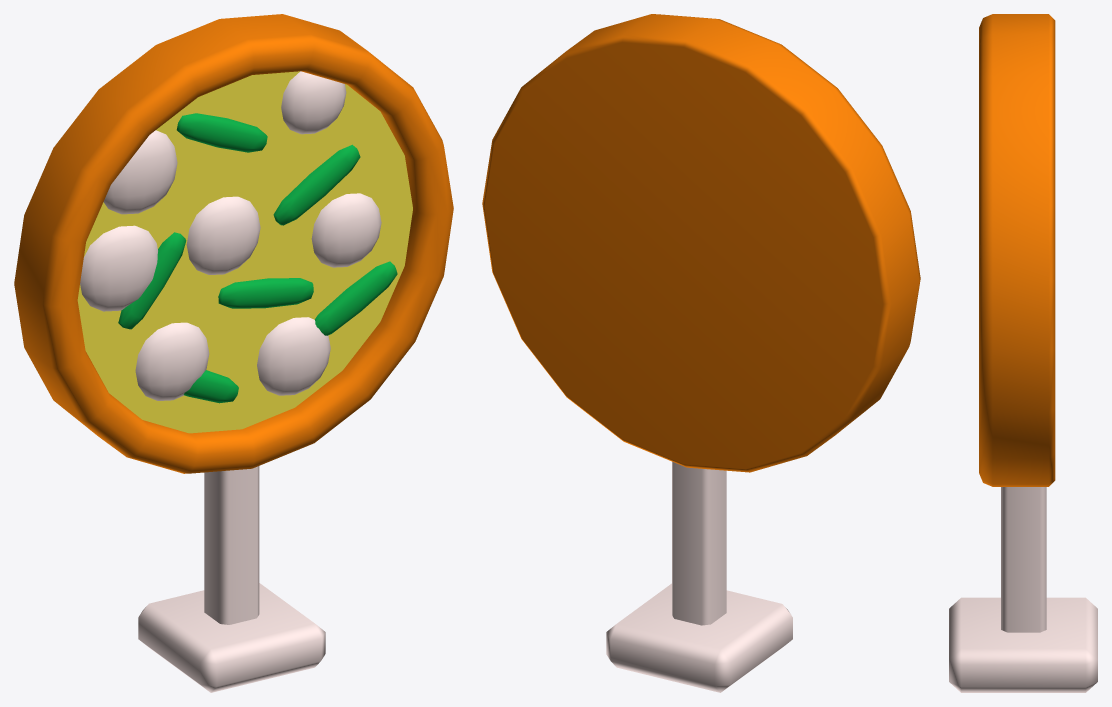
File: Store_1_Pizza_Sign_2.glb
3 renders of one model, left to right at view 1: azimuth 30°, elevation 25°; view 2: azimuth 150°, elevation 25°; view 3: azimuth 270°, elevation 25°, orthographic.
Visible parts, largest first — view 1: Store_1_Pizza_Sign_2; view 2: Store_1_Pizza_Sign_2; view 3: Store_1_Pizza_Sign_2.
Part boxes in pixels (left/top/right/bottom): Store_1_Pizza_Sign_2: left=14, top=14, right=453, bottom=692; Store_1_Pizza_Sign_2: left=482, top=14, right=920, bottom=692; Store_1_Pizza_Sign_2: left=949, top=14, right=1097, bottom=692.
Bounding box in the file's own units: 2.26 × 3.32 × 0.7073.
Materials: 1 (1 with a texture image).
